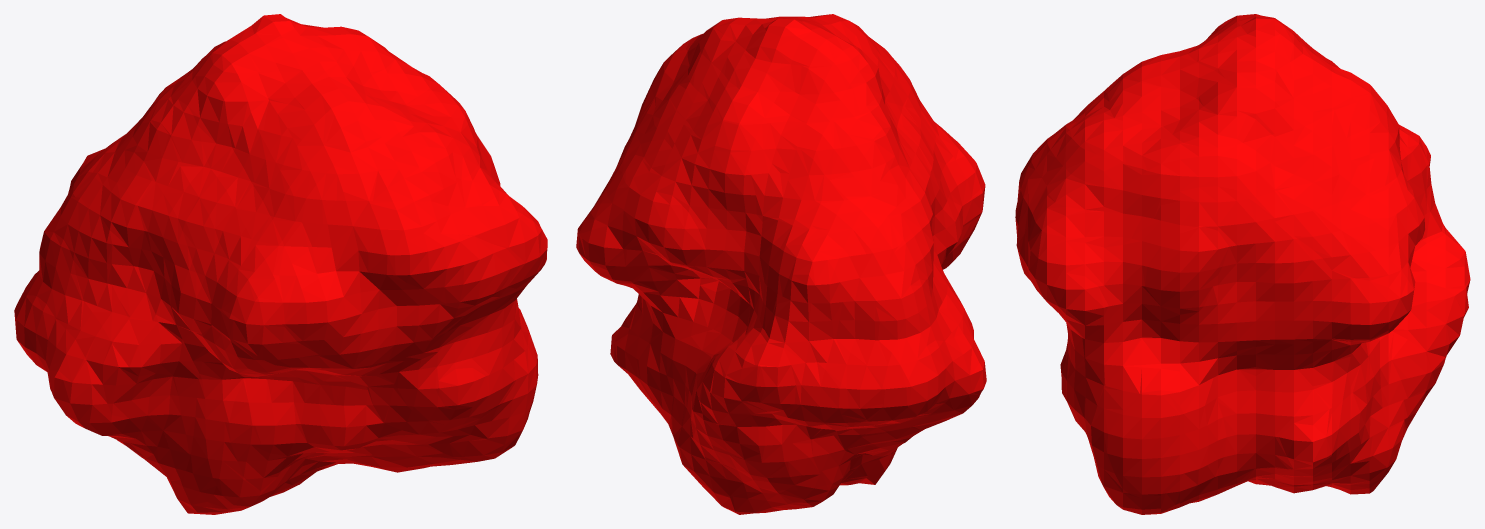
File: frsA_coarse.dae
The picture shows the model from 3 angles, left to right: view 1: azimuth 30°, elevation 25°; view 2: azimuth 150°, elevation 25°; view 3: azimuth 270°, elevation 25°; orthographic projection. The views are drawn at different scales.
Visible parts, largest first — view 1: frsA; view 2: frsA; view 3: frsA.
Part boxes in pixels (bbox=[...]): frsA: bbox=[14, 14, 547, 514]; frsA: bbox=[576, 14, 986, 514]; frsA: bbox=[1015, 14, 1470, 514].
Size of the model in its own units: 57.02 by 64.32 by 56.01.
